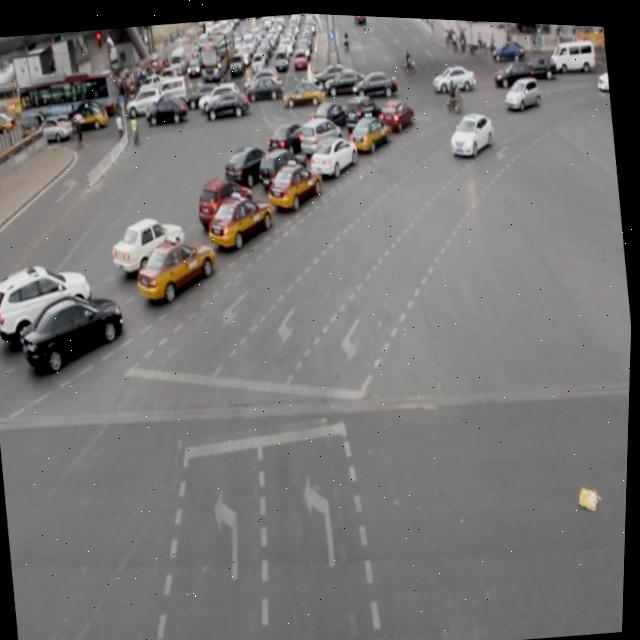car: (0, 255, 99, 344), (21, 288, 129, 368), (134, 232, 218, 299), (111, 210, 189, 273), (204, 189, 275, 251), (192, 168, 259, 231), (263, 157, 324, 209), (256, 139, 310, 191), (444, 103, 495, 153), (308, 128, 360, 174), (222, 140, 270, 184), (348, 106, 392, 149), (266, 118, 311, 157), (376, 92, 416, 134), (341, 88, 380, 130), (307, 96, 348, 131), (500, 71, 539, 106)
truck: (296, 111, 345, 158)
